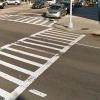Crosswalk: (1, 29, 66, 96)
